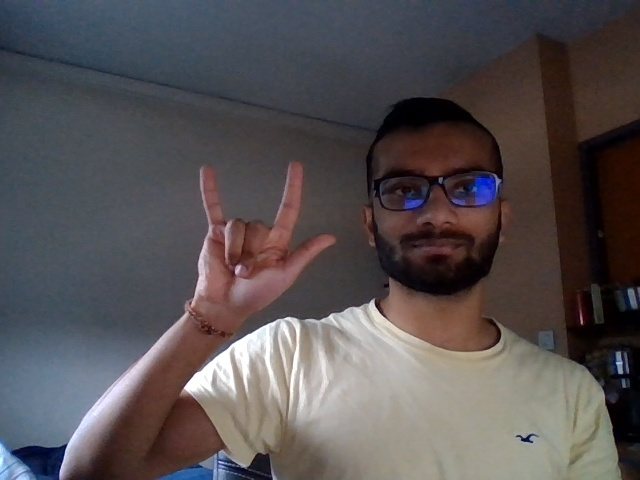I Love You: (180, 151, 344, 318)
